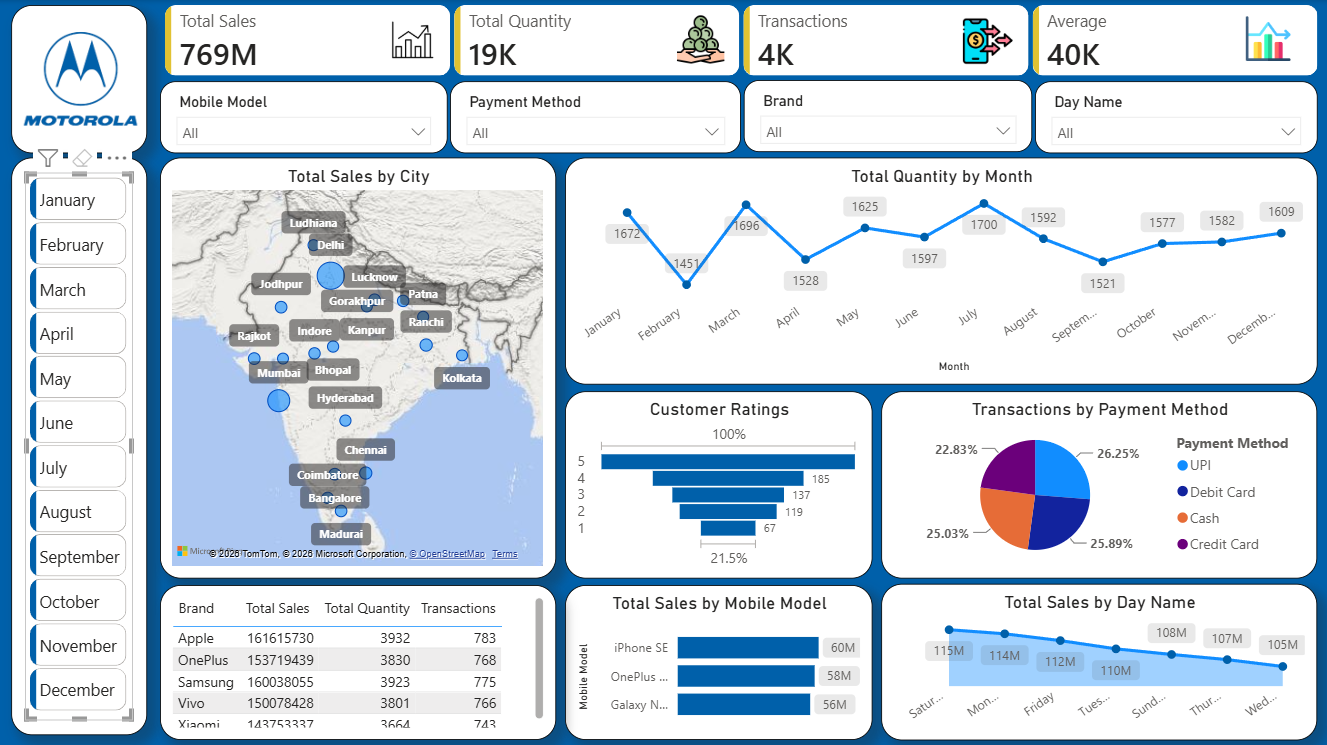

The page's visual inventory and layout, read from the dashboard file:
{"tool":"powerbi","page":{"name":"Page 1","canvas":[1280,720],"ordinal":0},"visuals":[{"type":"shape","box":[10.9,4.8,131.5,143.6],"z":0},{"type":"image","box":[22.9,13.3,109.8,125.5],"z":1000},{"type":"shape","box":[10.9,152,131.5,557.4],"z":2000},{"type":"advancedSlicerVisual","fields":{"Values":["Sales_Data.Date.Variation.Date Hierarchy.Month"]},"box":[24.1,166.5,103.8,528.4],"z":3000},{"type":"cardVisual","fields":{"Data":["Sales_Data.Total Sales","Sales_Data.Total Quantity","Sales_Data.Transactions","Sales_Data.Average"]},"box":[154.4,0,1125.6,78.4],"z":4000},{"type":"image","box":[361.9,13.3,72.4,50.7],"z":5000},{"type":"image","box":[650.3,13.3,51.9,49.5],"z":6000},{"type":"image","box":[925.3,15.7,55.5,48.3],"z":7000},{"type":"image","box":[1196.8,15.7,54.3,43.4],"z":8000},{"type":"map","fields":{"Category":["Sales_Data.City"],"Size":["Sales_Data.Total Sales"]},"box":[154.4,152,382.4,406.6],"z":9000},{"type":"lineChart","fields":{"Y":["Sales_Data.Total Quantity"],"Category":["Sales_Data.Date.Variation.Date Hierarchy.Month","Sales_Data.Date.Variation.Date Hierarchy.Day"]},"box":[545.3,152,726.3,219.6],"z":10000},{"type":"clusteredBarChart","fields":{"Category":["Sales_Data.Mobile Model"],"Y":["Sales_Data.Total Sales"]},"box":[545.3,564.6,296.8,149.6],"z":11000},{"type":"pieChart","fields":{"Category":["Sales_Data.Payment Method"],"Y":["Sales_Data.Transactions"]},"box":[850.5,377.6,421,181],"z":12000},{"type":"funnel","title":"Customer Ratings","fields":{"Category":["Sales_Data.Customer Ratings"],"Y":["CountNonNull(Sales_Data.Customer Ratings)"]},"box":[545.3,377.6,296.8,181],"z":13000},{"type":"areaChart","fields":{"Category":["Sales_Data.Day Name"],"Y":["Sales_Data.Total Sales"]},"box":[850.5,563.4,421,150.8],"z":14000},{"type":"tableEx","fields":{"Values":["Sales_Data.Brand","Sales_Data.Total Sales","Sales_Data.Total Quantity","Sales_Data.Transactions"]},"box":[154.4,564.6,382.4,149.6],"z":15000},{"type":"slicer","fields":{"Values":["Sales_Data.Mobile Model"]},"box":[154.4,78.4,277.5,70],"z":16000},{"type":"slicer","fields":{"Values":["Sales_Data.Payment Method"]},"box":[434.3,78.4,281.1,70],"z":17000},{"type":"slicer","fields":{"Values":["Sales_Data.Brand"]},"box":[717.8,77.2,278.7,70],"z":18000},{"type":"slicer","fields":{"Values":["Sales_Data.Day Name"]},"box":[998.9,78.4,272.7,70],"z":19000}]}

Visuals, with their boxes in screenshot pixels (x1, y1, x2, y2), scaled from the page's 1280x720 canvas onto the 1327x745 screenshot:
shape: locate(11, 5, 148, 154)
image: locate(24, 14, 138, 144)
shape: locate(11, 157, 148, 734)
advancedSlicerVisual - Sales_Data.Date.Variation.Date Hierarchy.Month: locate(25, 172, 133, 719)
cardVisual - Sales_Data.Total Sales x Sales_Data.Total Quantity: locate(160, 0, 1326, 81)
image: locate(375, 14, 450, 66)
image: locate(674, 14, 728, 65)
image: locate(959, 16, 1017, 66)
image: locate(1241, 16, 1297, 61)
map - Sales_Data.City x Sales_Data.Total Sales: locate(160, 157, 557, 578)
lineChart - Sales_Data.Total Quantity x Sales_Data.Date.Variation.Date Hierarchy.Month: locate(565, 157, 1318, 385)
clusteredBarChart - Sales_Data.Mobile Model x Sales_Data.Total Sales: locate(565, 584, 873, 739)
pieChart - Sales_Data.Payment Method x Sales_Data.Transactions: locate(882, 391, 1318, 578)
"Customer Ratings" funnel: locate(565, 391, 873, 578)
areaChart - Sales_Data.Day Name x Sales_Data.Total Sales: locate(882, 583, 1318, 739)
tableEx - Sales_Data.Brand x Sales_Data.Total Sales: locate(160, 584, 557, 739)
slicer - Sales_Data.Mobile Model: locate(160, 81, 448, 154)
slicer - Sales_Data.Payment Method: locate(450, 81, 742, 154)
slicer - Sales_Data.Brand: locate(744, 80, 1033, 152)
slicer - Sales_Data.Day Name: locate(1036, 81, 1318, 154)
